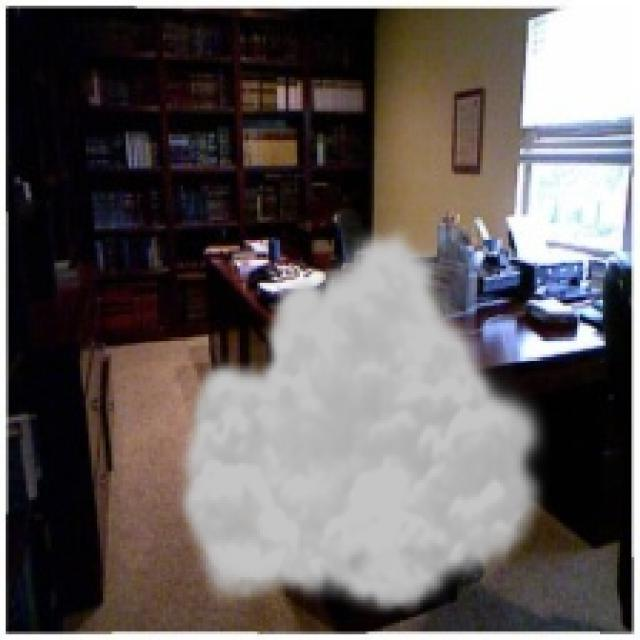Smoke: (172, 220, 554, 617)
